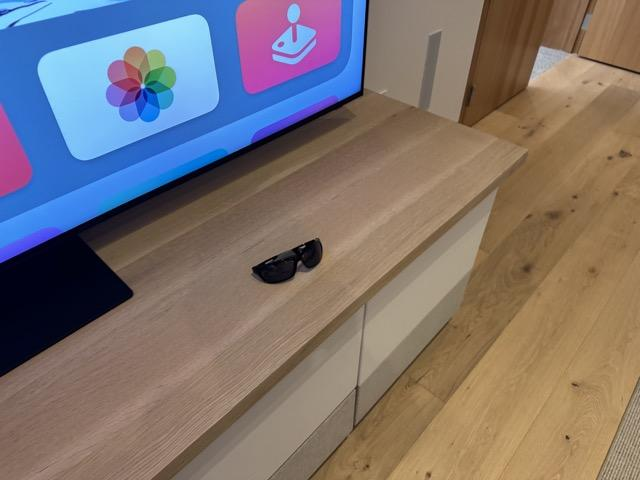Sunglasses: (253, 237, 323, 285)
